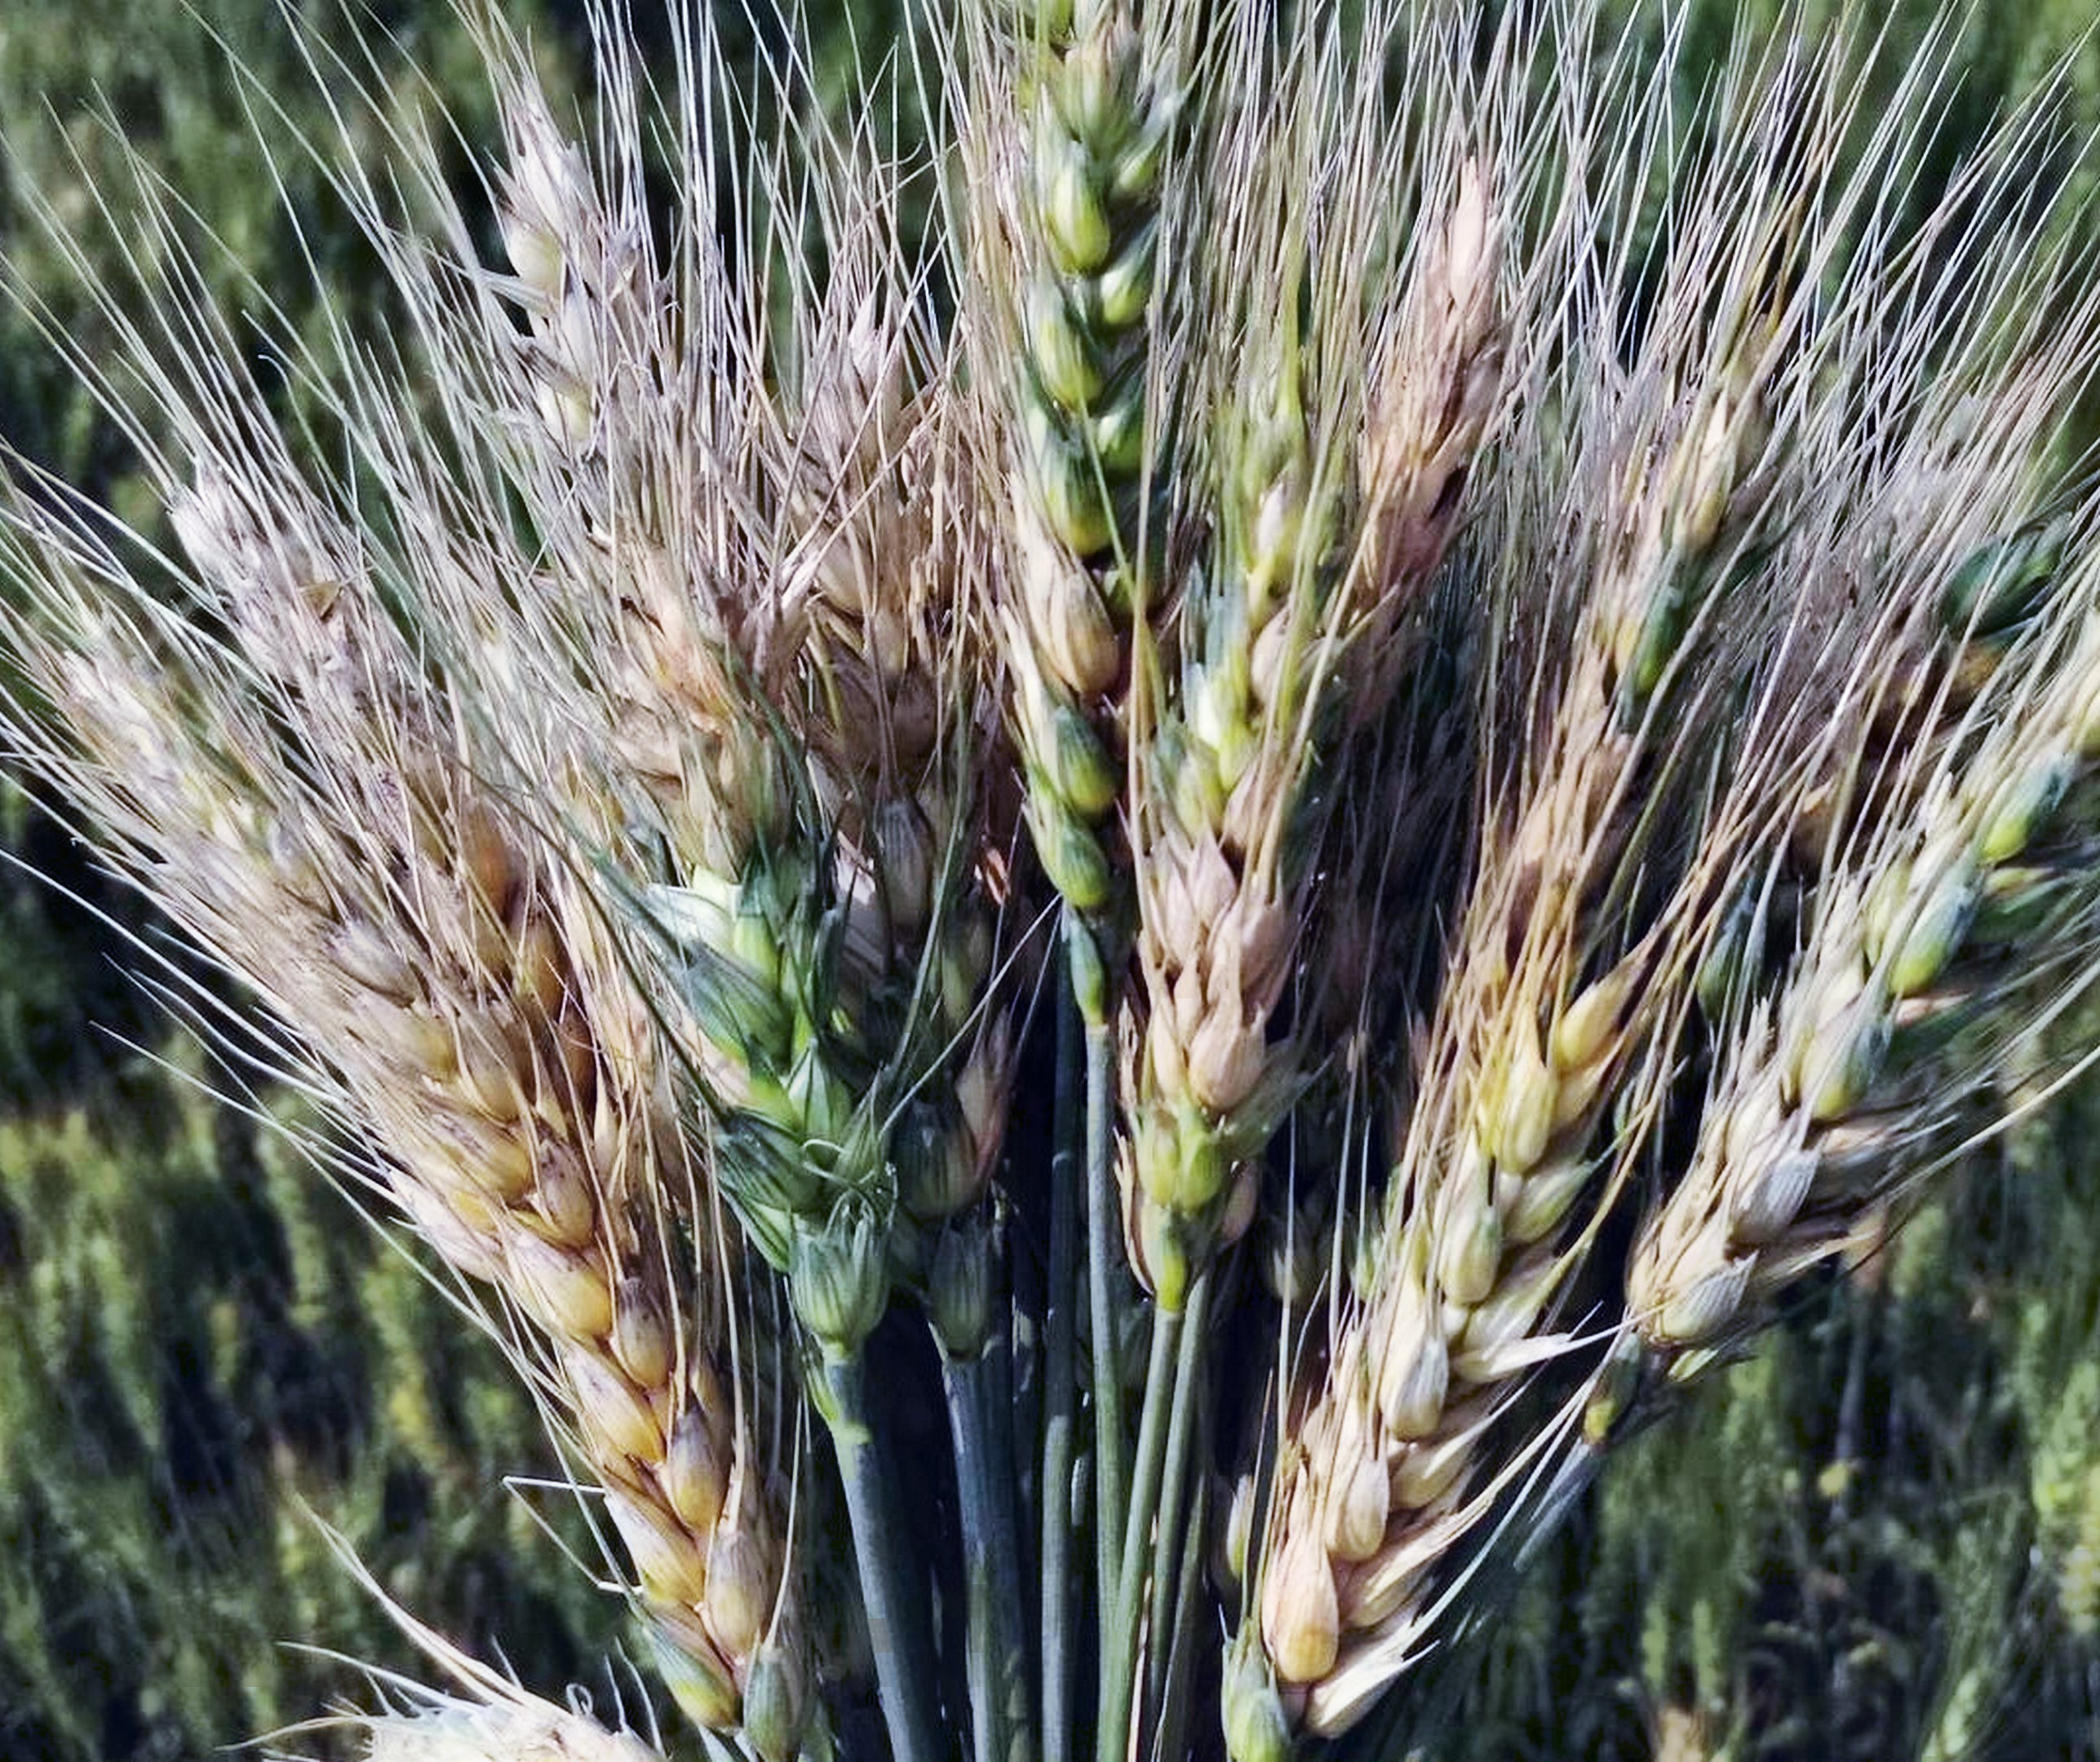Wheat scab: (1666, 697, 2100, 1355), (969, 45, 1187, 940)
